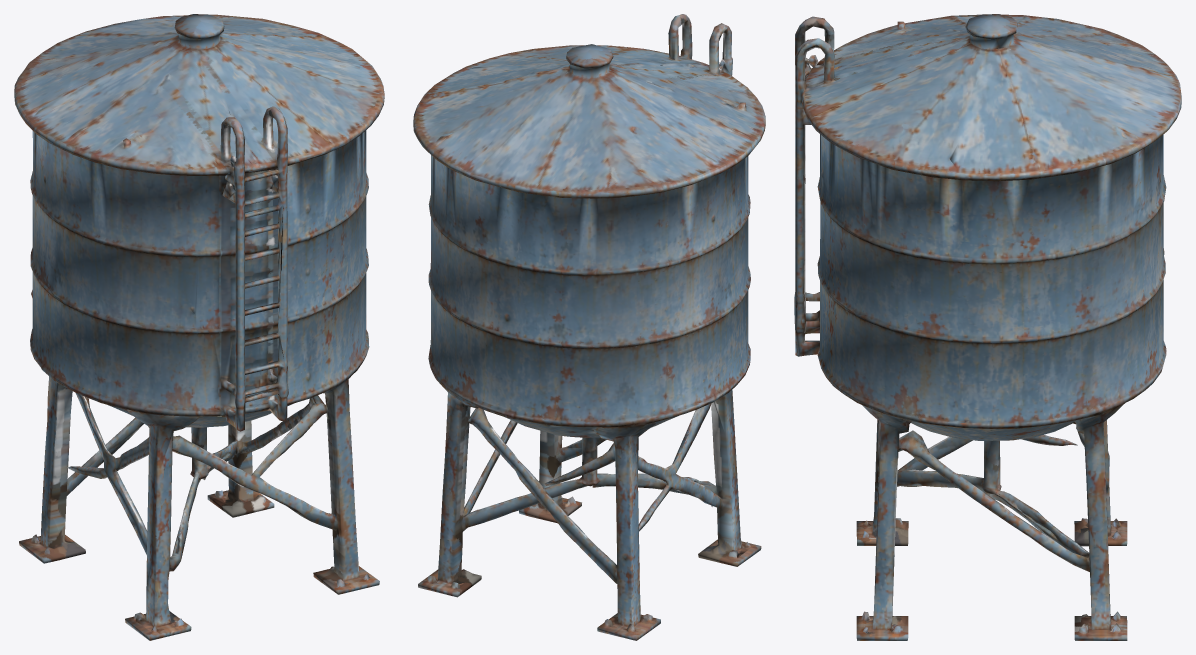
File: roof_tank.glb
3 renders of one model, left to right at view 1: azimuth 30°, elevation 25°; view 2: azimuth 150°, elevation 25°; view 3: azimuth 270°, elevation 25°, orthographic. The views are drawn at different scales.
Visible parts, largest first — view 1: low; view 2: low; view 3: low.
Boxes of the visible parts, box(x1,y1,x2,y2) form: low: box(14, 14, 384, 640); low: box(413, 14, 765, 640); low: box(794, 14, 1181, 640).
Bounding box in the file's own units: 1.15 × 1.88 × 1.17.
Materials: 1 (1 with a texture image).
